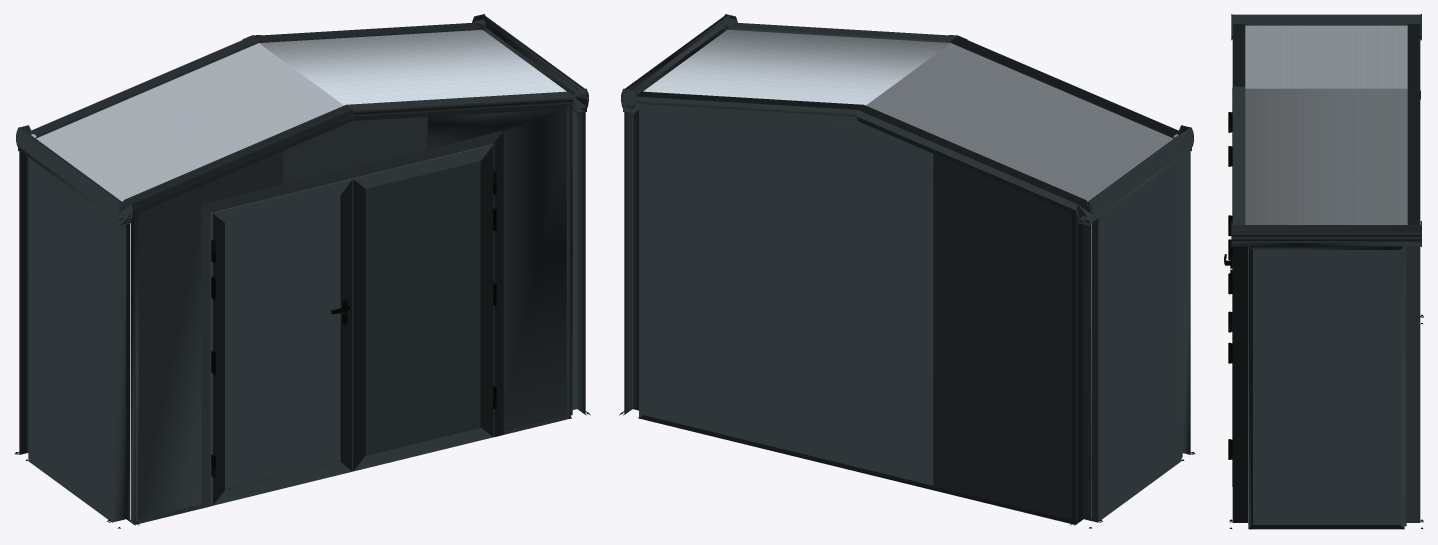
3 renders of one model, left to right at view 1: azimuth 30°, elevation 25°; view 2: azimuth 150°, elevation 25°; view 3: azimuth 270°, elevation 25°, orthographic. The views are drawn at different scales.
Visible parts, largest first — view 1: priximbattable_net_abris_de_rangement_13447_abri_de_rangemen, folha, folha_2, porta_avec_hublot; view 2: priximbattable_net_abris_de_rangement_13447_abri_de_rangemen; view 3: priximbattable_net_abris_de_rangement_13447_abri_de_rangemen, folha, porta_avec_hublot, folha_2.
Boxes of the visible parts, box(x1,y1,x2,y2) form: priximbattable_net_abris_de_rangement_13447_abri_de_rangemen: box(14, 14, 590, 528); folha: box(352, 144, 496, 471); folha_2: box(211, 178, 352, 505); porta_avec_hublot: box(201, 131, 503, 508); priximbattable_net_abris_de_rangement_13447_abri_de_rangemen: box(619, 14, 1195, 528); priximbattable_net_abris_de_rangement_13447_abri_de_rangemen: box(1229, 14, 1423, 529); folha: box(1228, 151, 1232, 486); porta_avec_hublot: box(1228, 122, 1232, 459); folha_2: box(1228, 87, 1232, 322).
Size of the model in its own units: 324 by 238 by 128.
Materials: 1 (1 with a texture image).
